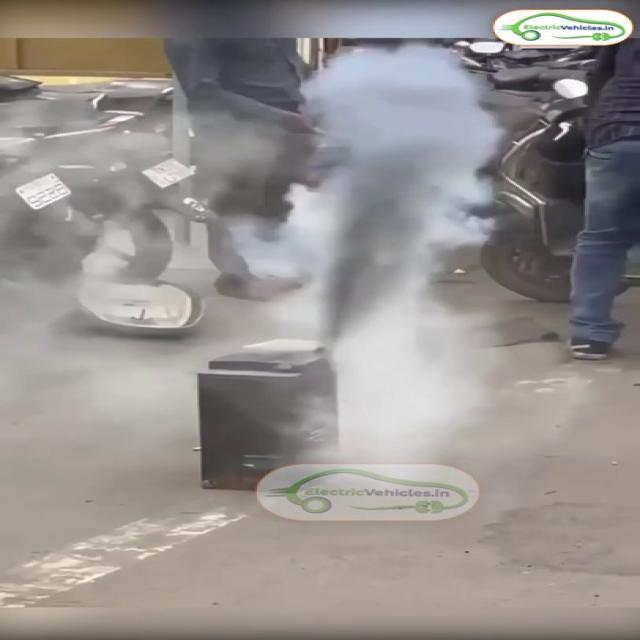Smoke: (242, 39, 524, 344)
